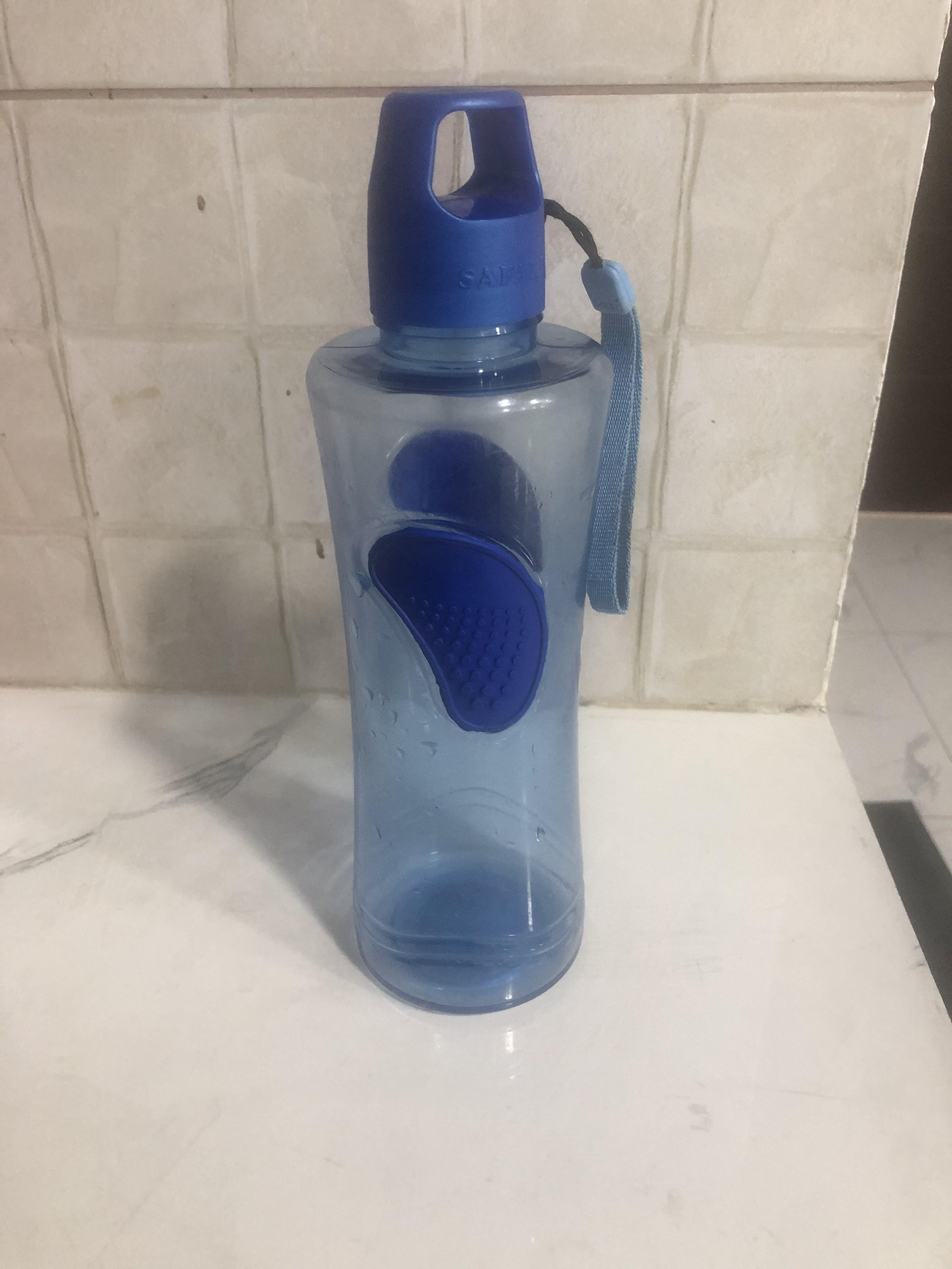gym bottle: (307, 74, 644, 1016)
